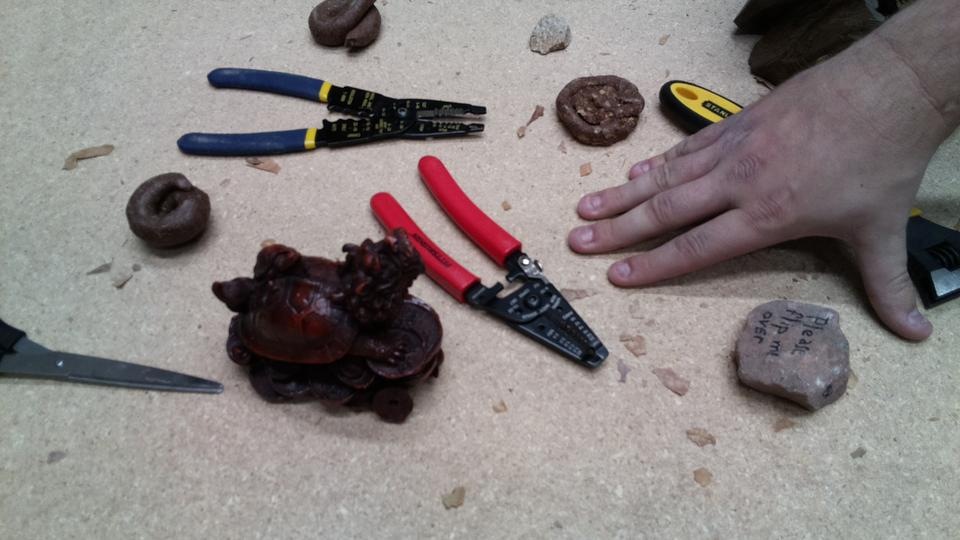poop: (122, 169, 214, 255), (551, 70, 645, 151), (306, 1, 383, 57)
